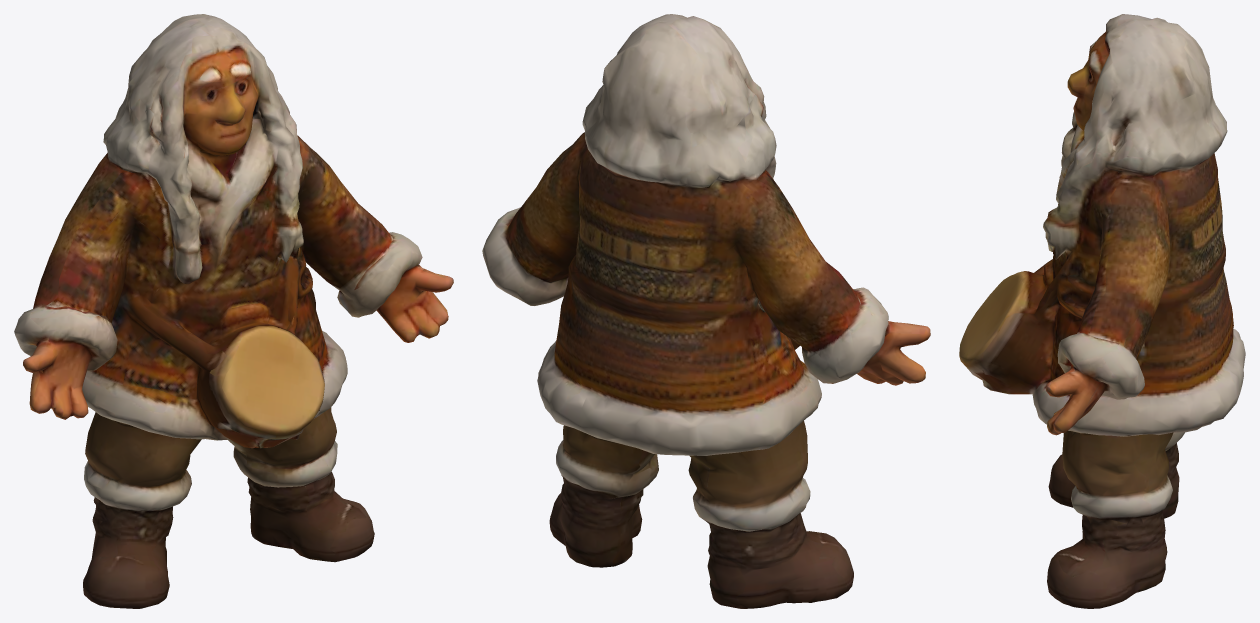
File: char_aurora_storyteller.glb
The picture shows the model from 3 angles, left to right: view 1: azimuth 30°, elevation 25°; view 2: azimuth 150°, elevation 25°; view 3: azimuth 270°, elevation 25°; orthographic projection. The views are drawn at different scales.
Visible parts, largest first — view 1: geometry_0; view 2: geometry_0; view 3: geometry_0.
Part boxes in pixels (x1,y1,x2,y2): geometry_0: (14,14,453,608); geometry_0: (482,14,930,608); geometry_0: (959,14,1245,608).
Bounding box in the file's own units: 1.62 × 1.96 × 0.9757.
Materials: 1 (1 with a texture image).
